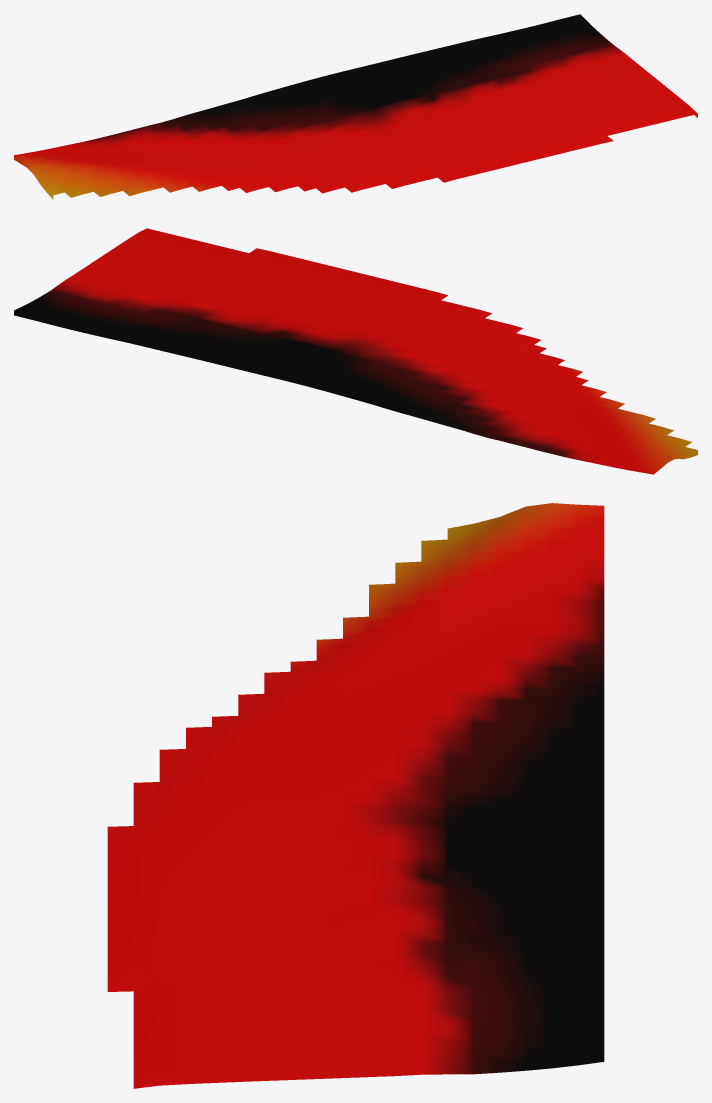
File: coast_9_9.glb
3 views of the same model, one above another, from view 1: azimuth 30°, elevation 25°; view 2: azimuth 150°, elevation 25°; view 3: azimuth 270°, elevation 25° (orthographic). The views are drawn at different scales.
Parts seen in each view (by area): view 1: terrain; view 2: terrain; view 3: terrain.
Boxes of the visible parts, <box> form: terrain: <box>14,14,697,199</box>; terrain: <box>14,228,697,474</box>; terrain: <box>107,503,604,1088</box>.
Size of the model in its own units: 200 by 6.5 by 76.
